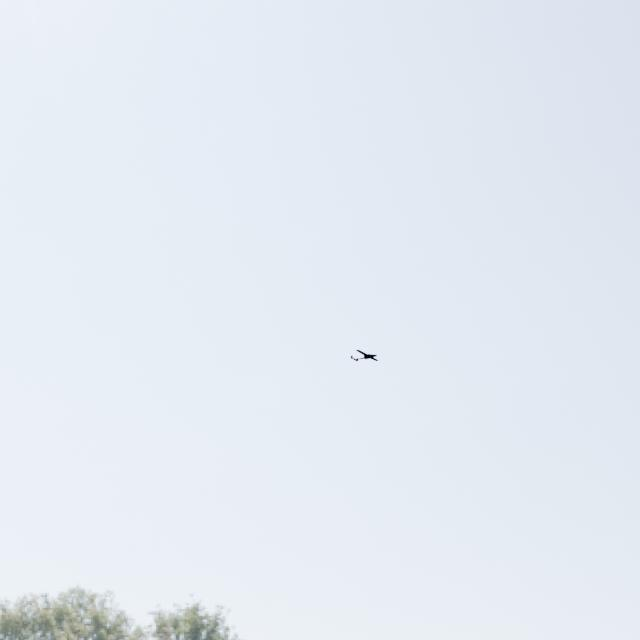Airaplan: (350, 349, 379, 361)
